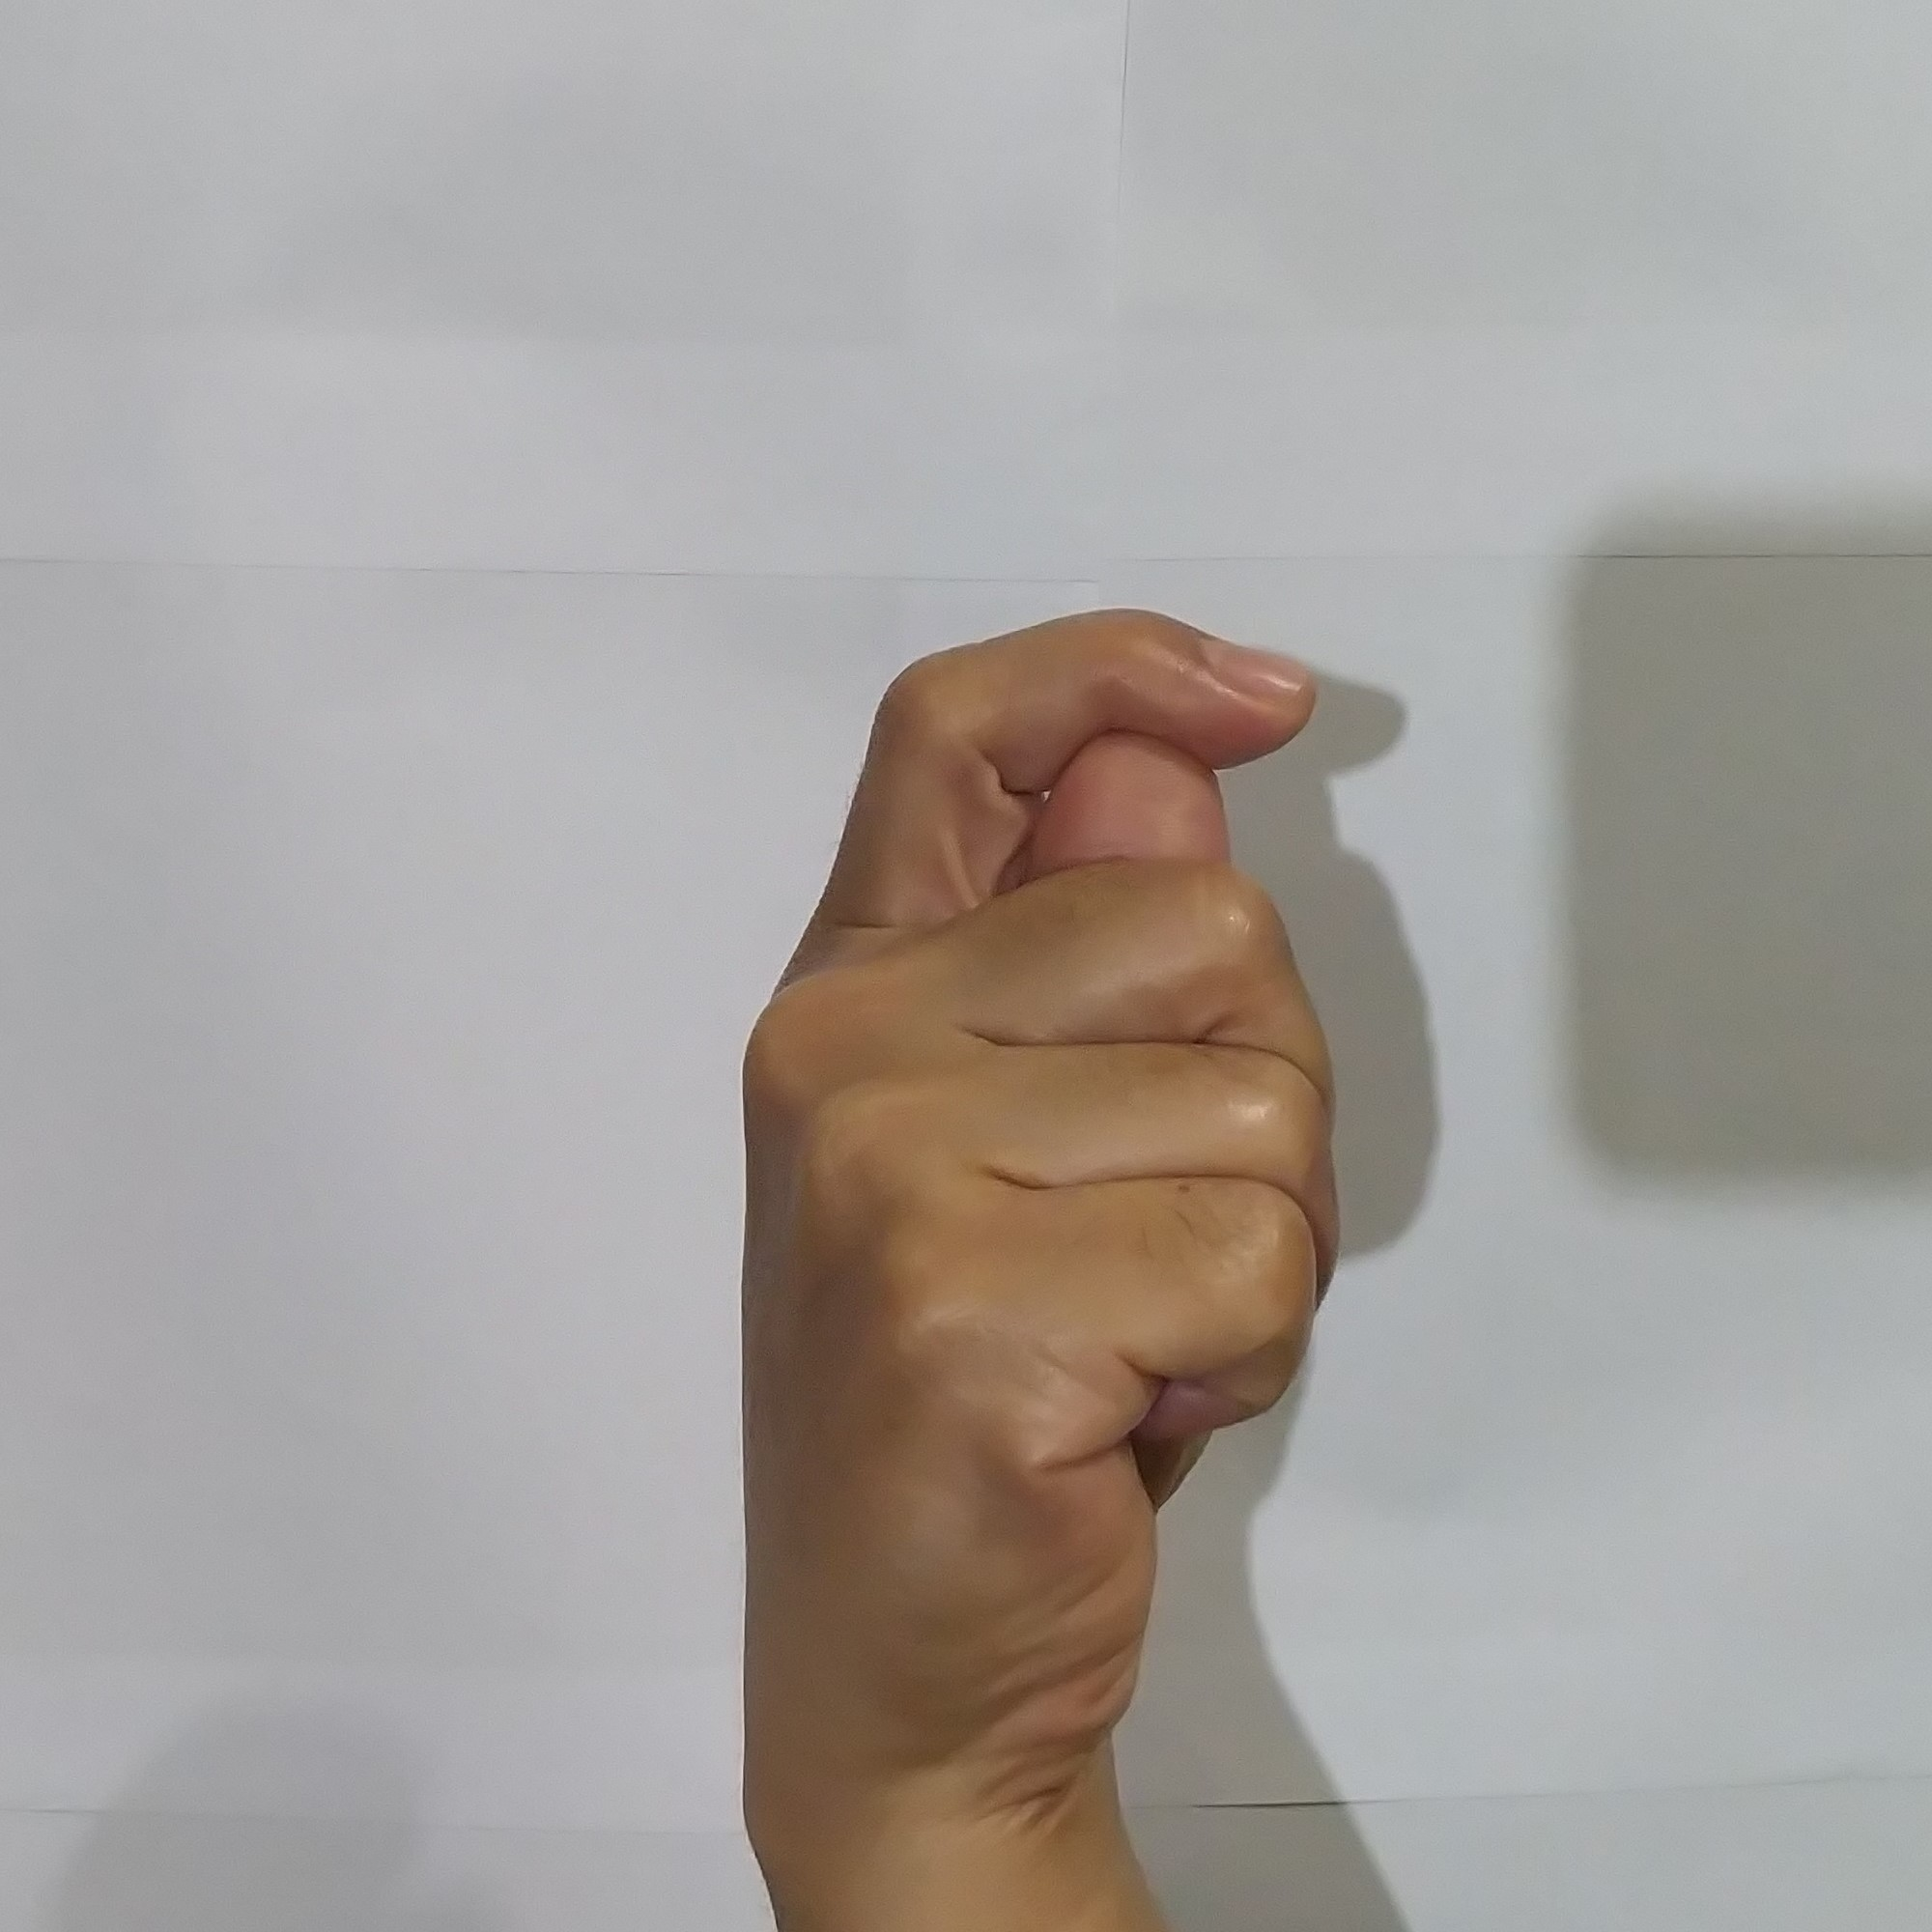T: (678, 571, 1382, 1771)
